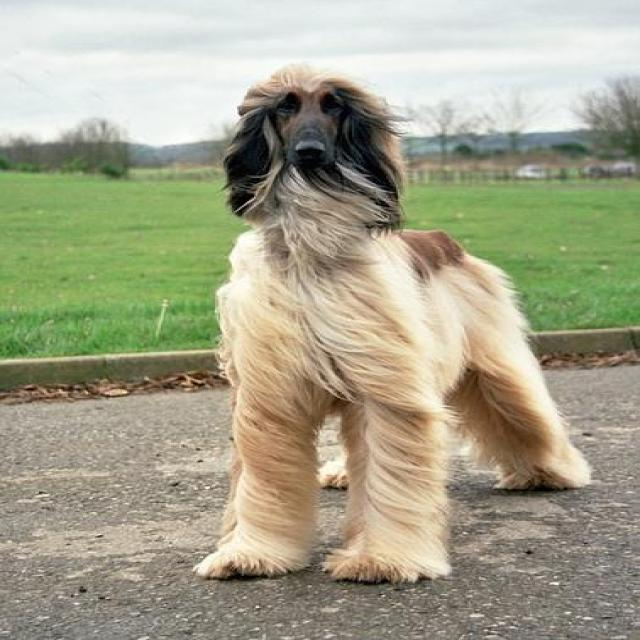afghan_hound: (188, 60, 587, 582)
